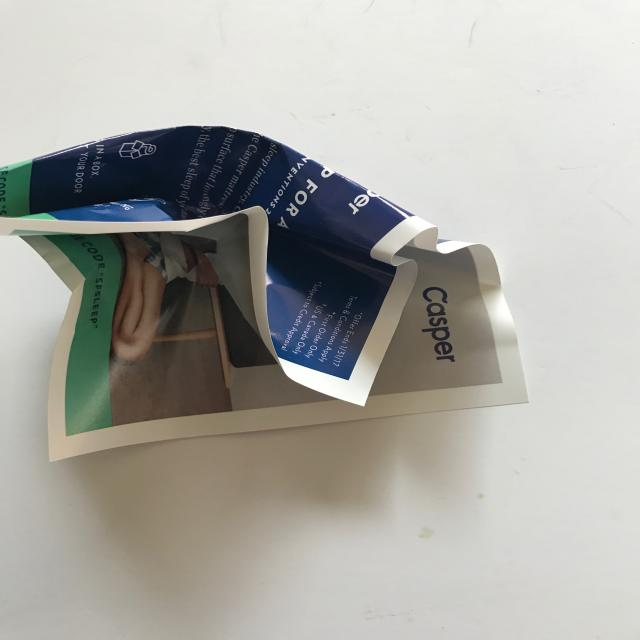Paper: (0, 122, 529, 465)
